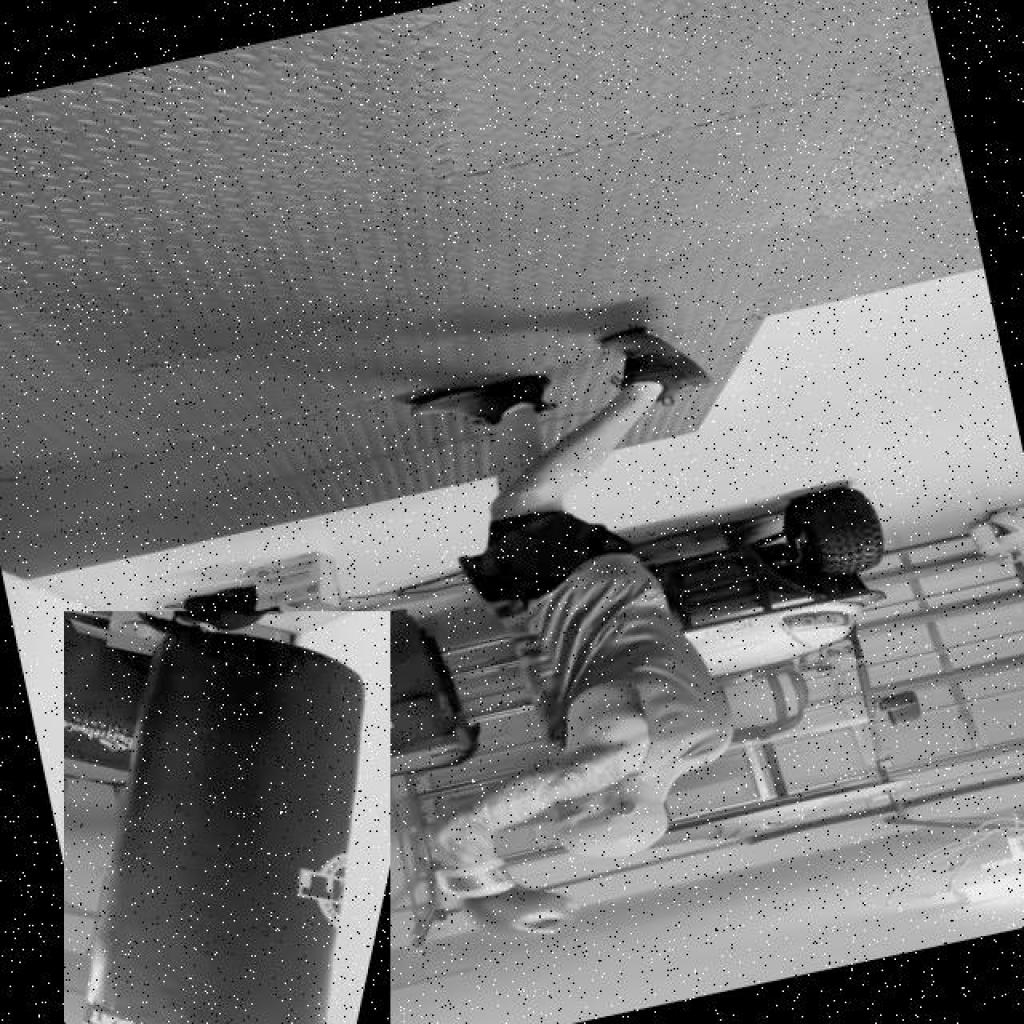bag: (64, 611, 391, 1024)
uppercut: (382, 675, 790, 960)
